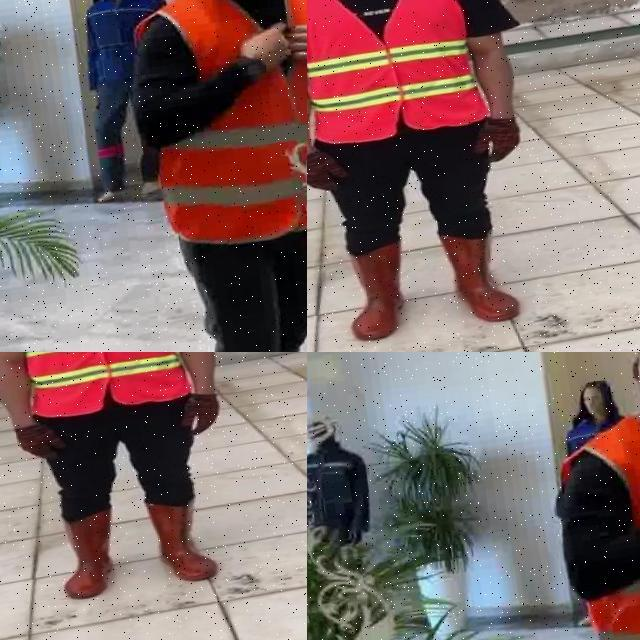boots: (335, 240, 414, 344), (443, 226, 521, 328), (146, 497, 218, 588), (53, 511, 126, 600)
vest: (125, 0, 307, 258), (307, 0, 487, 150), (553, 398, 640, 640), (2, 352, 191, 421)
